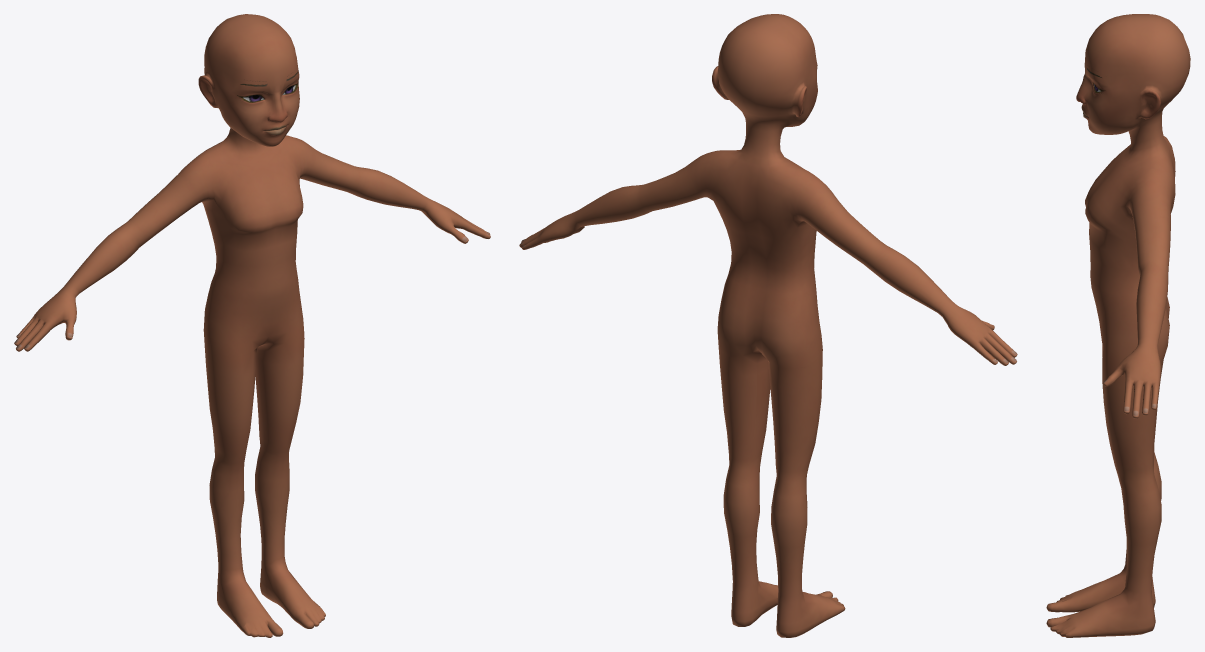
File: frame_0074.glb
3 renders of one model, left to right at view 1: azimuth 30°, elevation 25°; view 2: azimuth 150°, elevation 25°; view 3: azimuth 270°, elevation 25°, orthographic. The views are drawn at different scales.
Visible parts, largest first — view 1: frame_0074_head_geo; view 2: frame_0074_head_geo; view 3: frame_0074_head_geo.
Part boxes in pixels (x1,y1,x2,y2): frame_0074_head_geo: [14, 14, 490, 637]; frame_0074_head_geo: [519, 14, 1017, 637]; frame_0074_head_geo: [1046, 14, 1190, 637].
Size of the model in its own units: 1.28 by 1.5 by 0.3253.
Materials: 3 (3 with a texture image).
